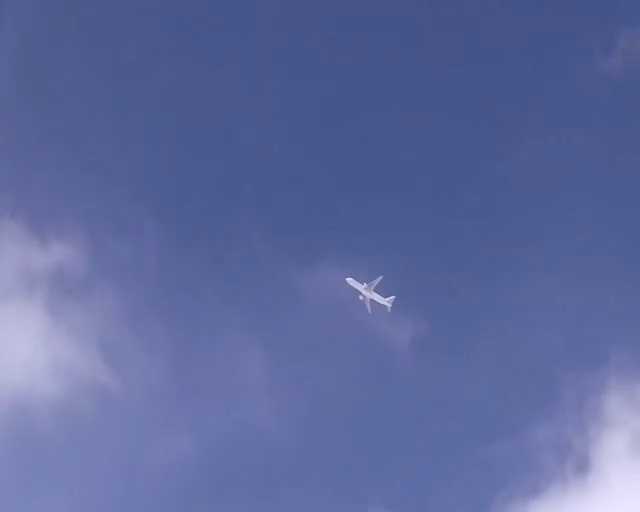AIRPLANE: (345, 274, 395, 313)
